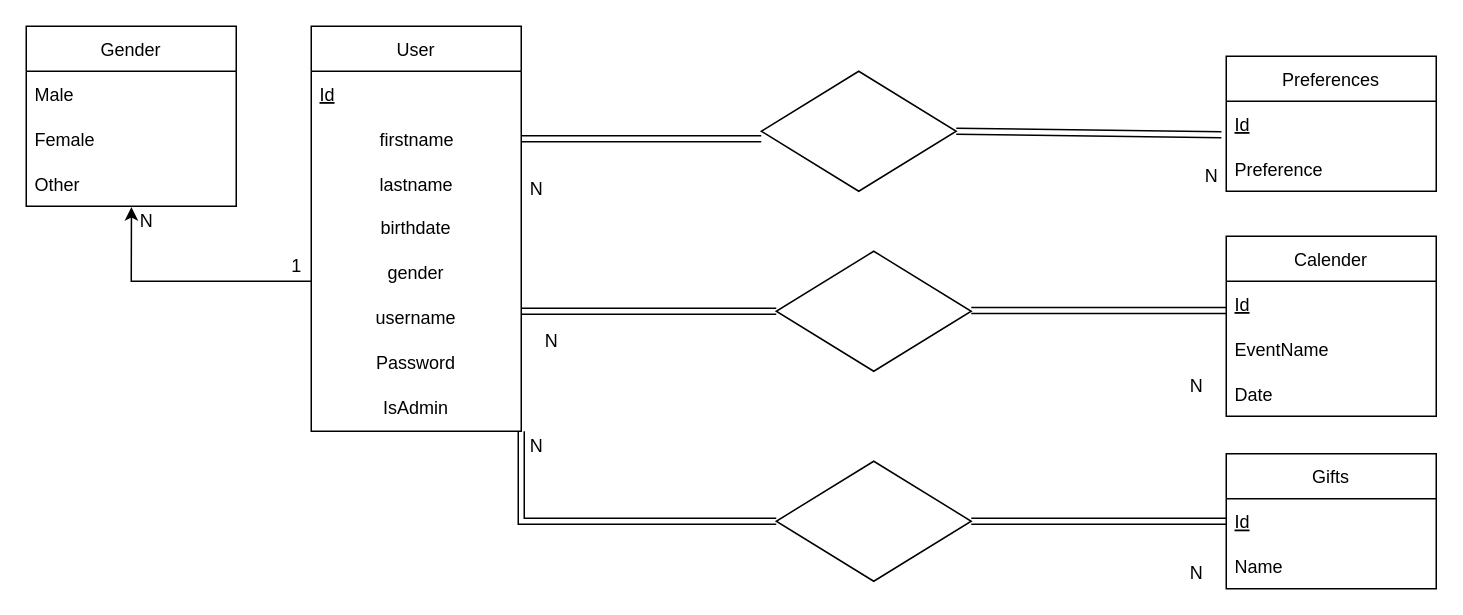
The diagram is 1463 pixels wide and 615 high, and some of its shapes have lost their labels. The shapes that lost their labels are listed below. From the top down, each one's centre as x and y in pixels, then its label:
At pixel 858 130: "User_Preferences".
At pixel 873 310: "User-Calender".
At pixel 873 520: "User-Gift".
